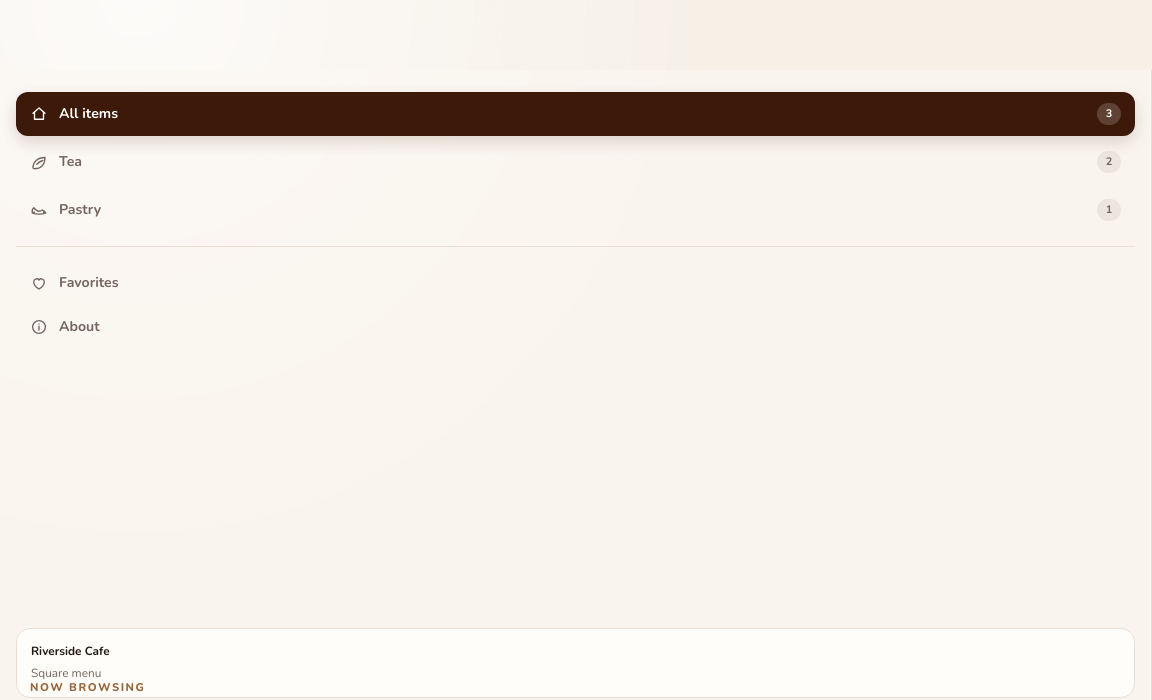
Test case: MenuCatalogView › leaves About for the menu when a category is chosen
What coordinates should you click on to do the following:
click the button "About"
I would click on:
 (79, 327)
Its box is [16,305,1135,349].
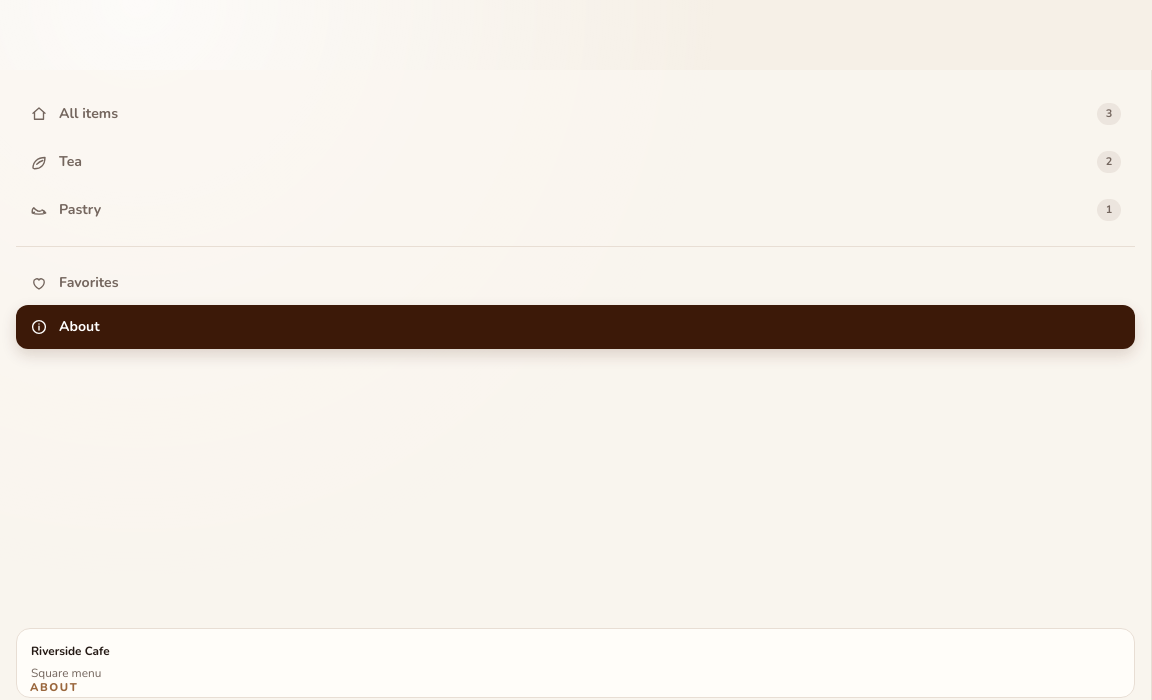
What coordinates should you click on to do the following:
click the button "Tea 2"
I would click on:
 (39, 162)
Its box is [16,140,1135,184].
(page scrolled)
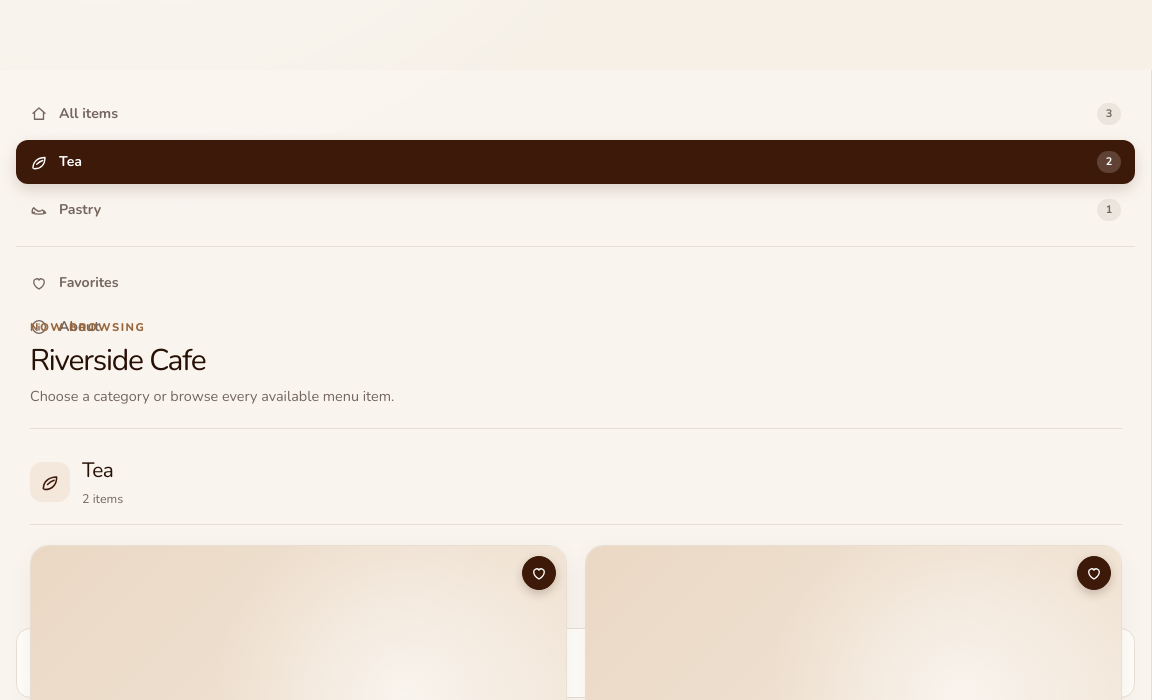
Now the heading "Riverside Cafe" is shown, box [30,340,205,381]
